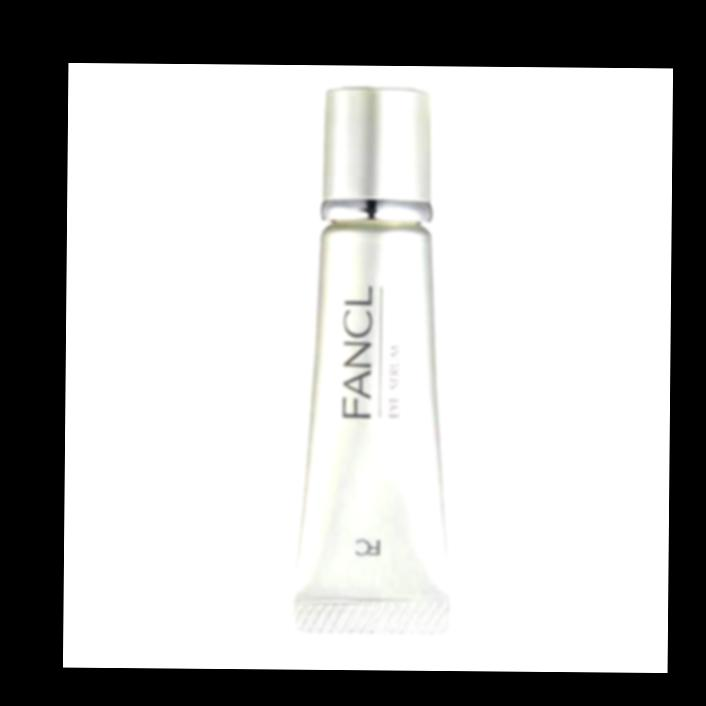cosmetic: (302, 85, 454, 637)
